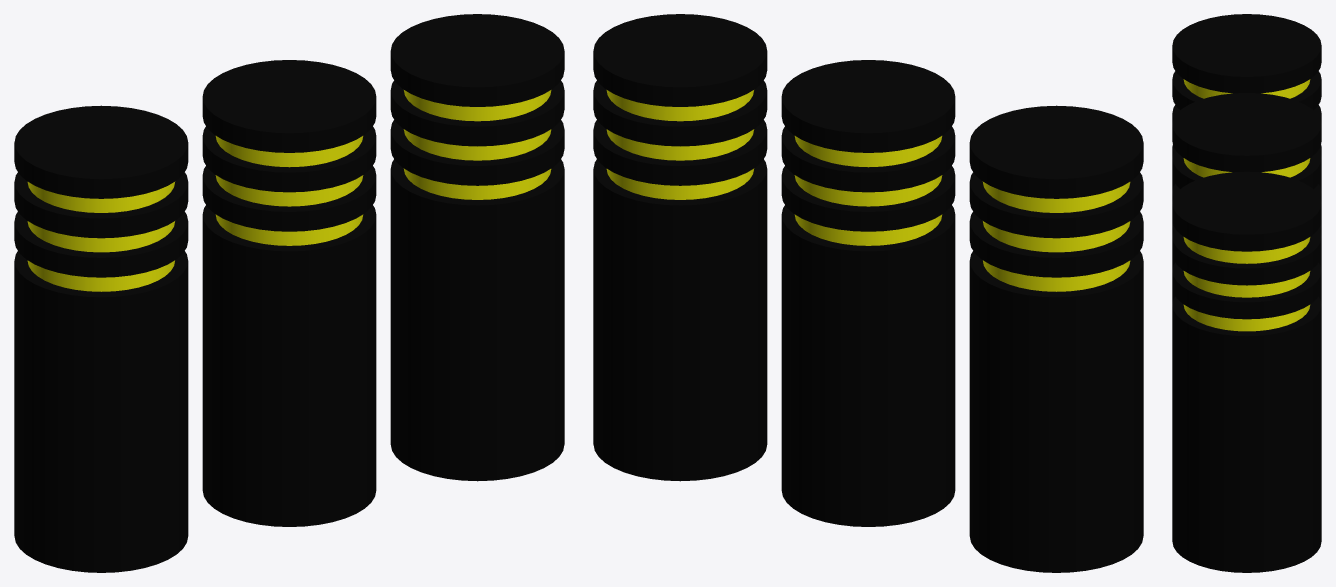
File: Polls.fbx
3 views of the same model, side by side, from view 1: azimuth 30°, elevation 25°; view 2: azimuth 150°, elevation 25°; view 3: azimuth 270°, elevation 25° (orthographic). The views are drawn at different scales.
Parts seen in each view (by area): view 1: Cylinder_1, Cylinder_2, Cylinder; view 2: Cylinder_1, Cylinder_2, Cylinder; view 3: Cylinder_2, Cylinder, Cylinder_1.
Part boxes in pixels (left/top/right/bottom): Cylinder_1: left=14, top=105, right=188, bottom=572; Cylinder_2: left=390, top=14, right=564, bottom=481; Cylinder: left=202, top=60, right=376, bottom=526; Cylinder_1: left=969, top=105, right=1143, bottom=572; Cylinder_2: left=593, top=14, right=767, bottom=481; Cylinder: left=781, top=60, right=955, bottom=526; Cylinder_2: left=1172, top=171, right=1321, bottom=572; Cylinder: left=1172, top=93, right=1321, bottom=303; Cylinder_1: left=1172, top=14, right=1321, bottom=224.
Bounding box in the file's own units: 14 × 10 × 4.
